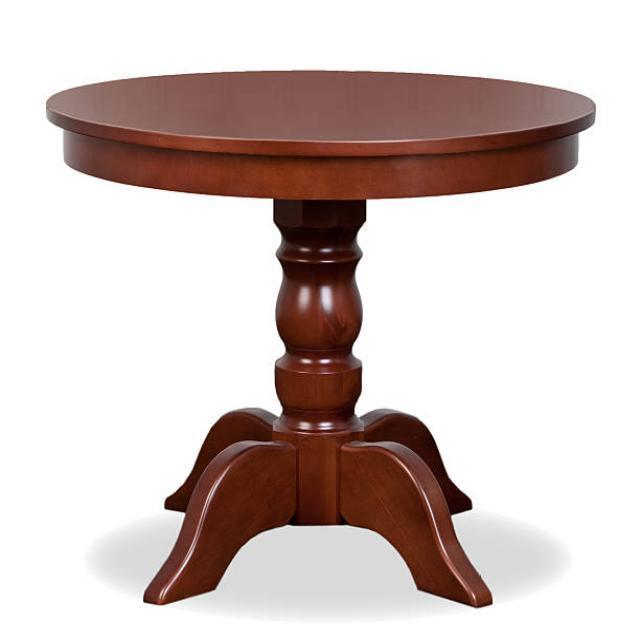table: (44, 67, 596, 608)
